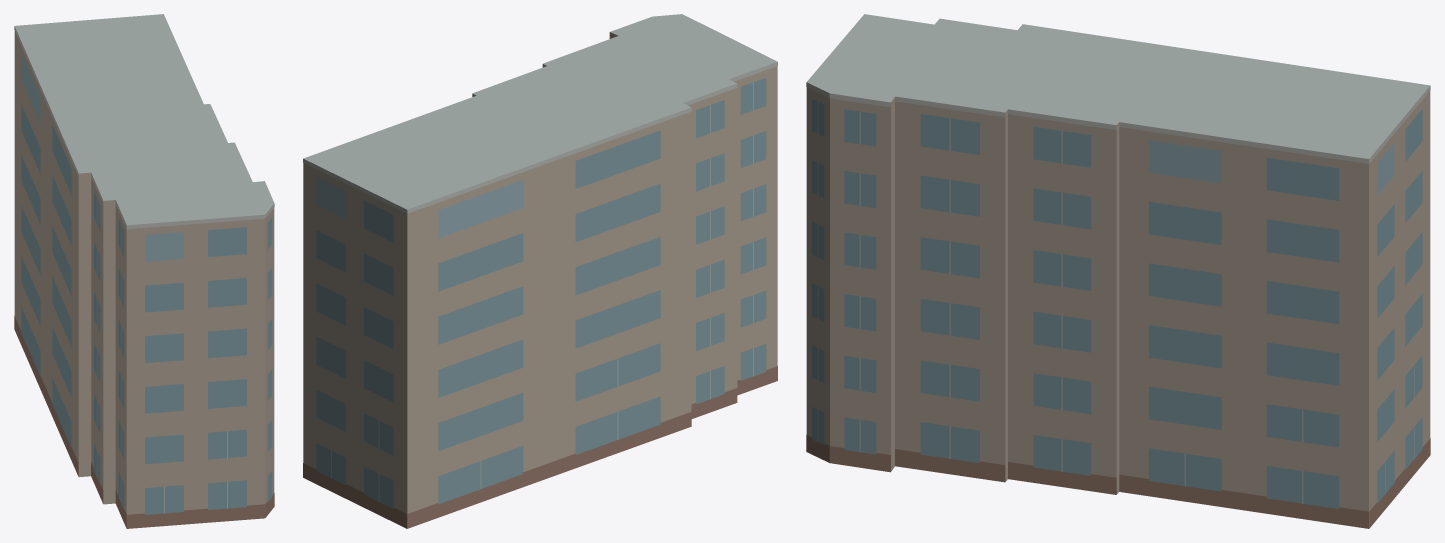
The model's file is survey-upis-32575719.glb.
3 views of the same model, side by side, from view 1: azimuth 30°, elevation 25°; view 2: azimuth 150°, elevation 25°; view 3: azimuth 270°, elevation 25° (orthographic). The views are drawn at different scales.
Visible parts, largest first — view 1: survey-upis-32575719.tmp; view 2: survey-upis-32575719.tmp; view 3: survey-upis-32575719.tmp.
Boxes of the visible parts, box(x1,y1,x2,y2) form: survey-upis-32575719.tmp: box(14, 14, 274, 528); survey-upis-32575719.tmp: box(303, 14, 777, 528); survey-upis-32575719.tmp: box(806, 14, 1430, 528).
Bounding box in the file's own units: 15.58 × 18.5 × 28.3.
